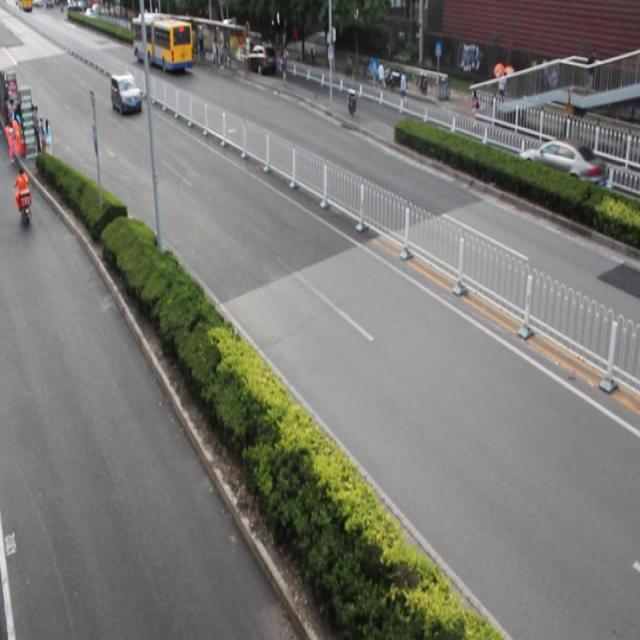car: (519, 136, 604, 196), (110, 72, 141, 116), (243, 41, 276, 76)
van: (130, 10, 193, 74)
